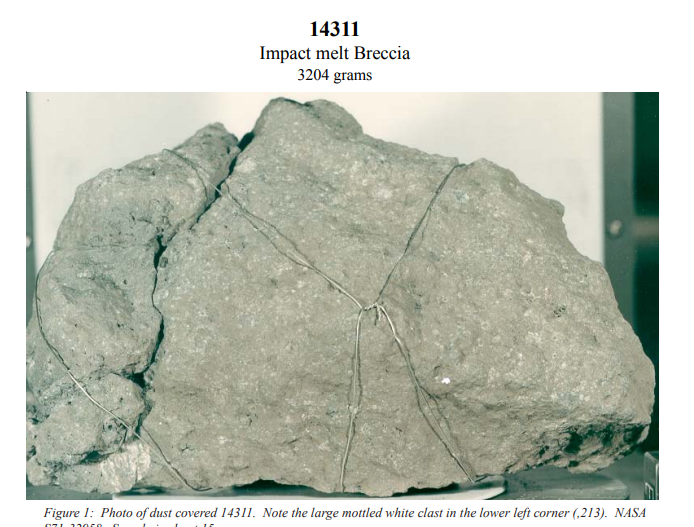Breccia: (30, 94, 653, 501), (66, 151, 427, 503), (435, 160, 641, 486), (115, 129, 354, 290), (27, 242, 174, 487)
